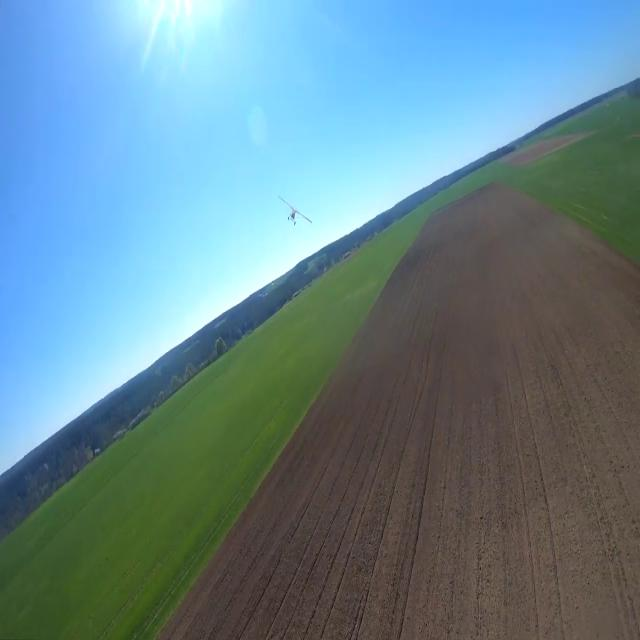iha: (284, 197, 314, 228)
